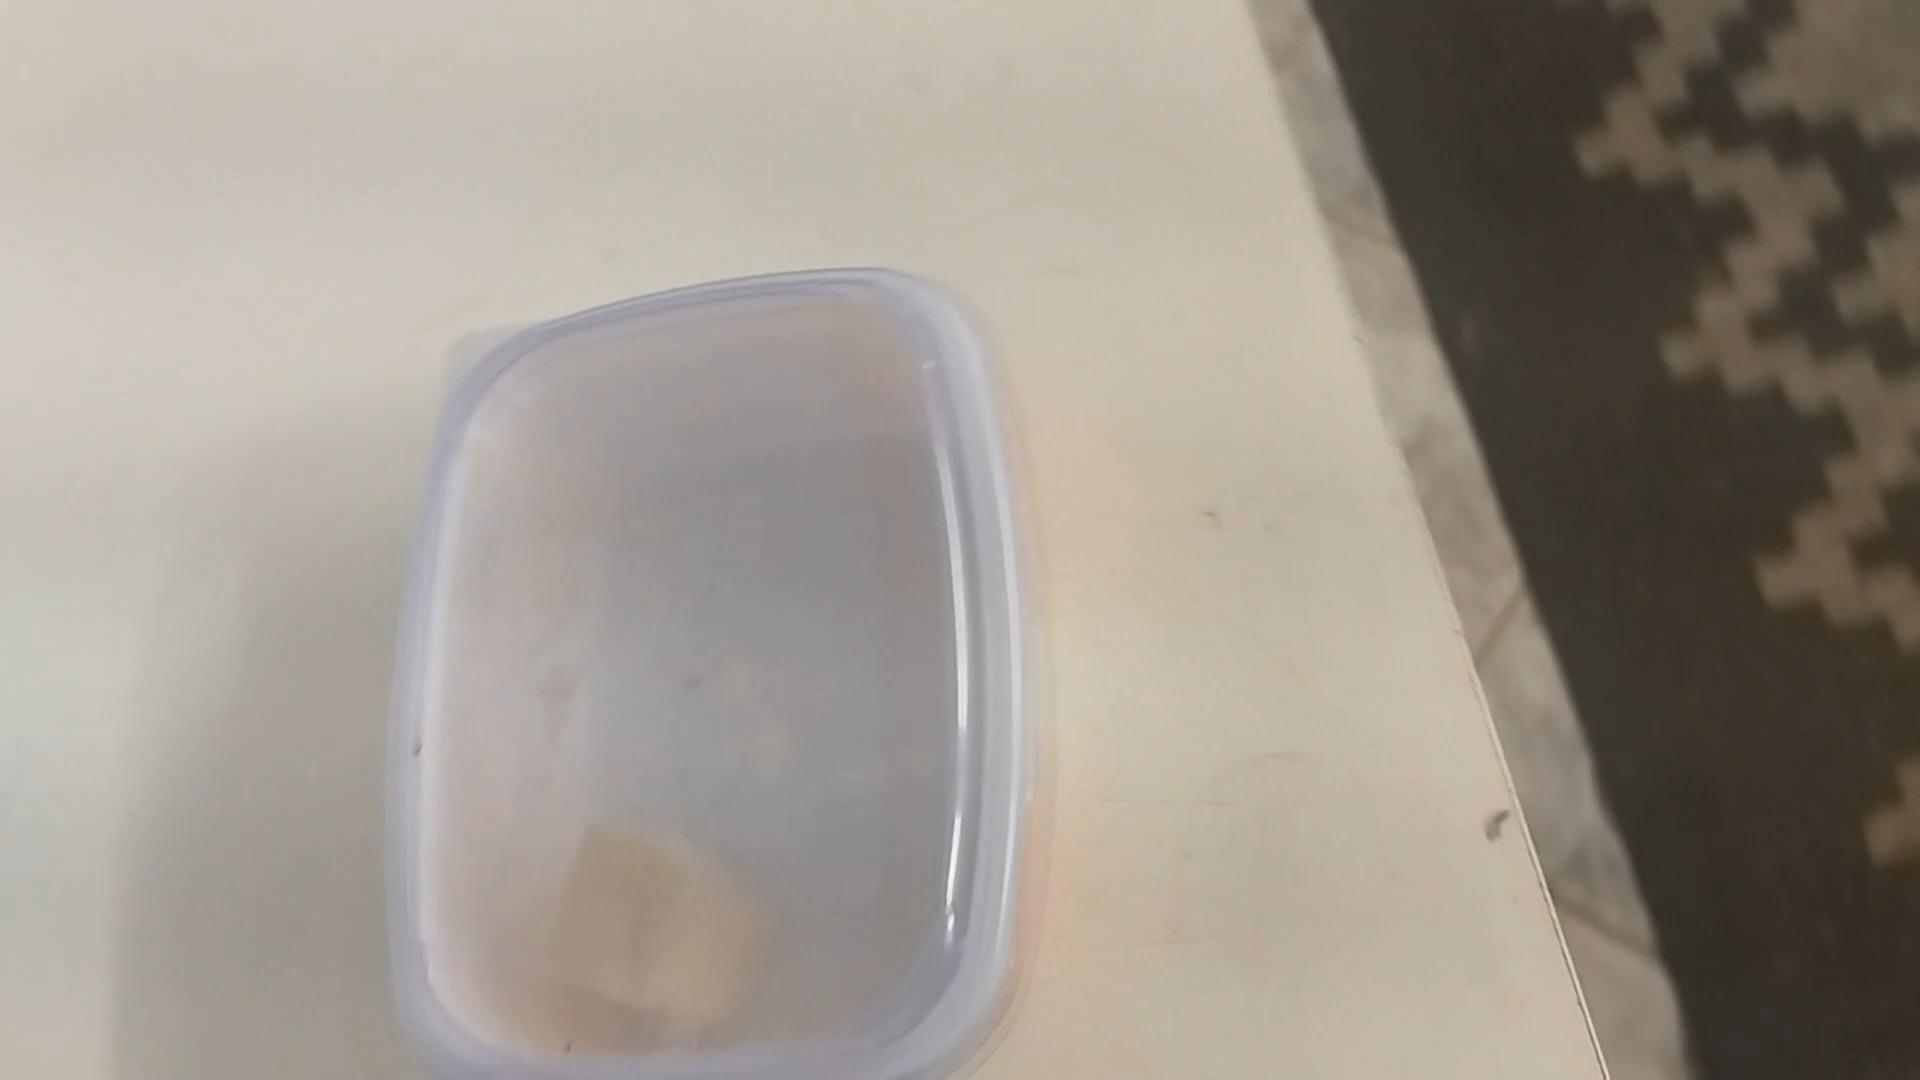butter: (386, 269, 1021, 1076)
